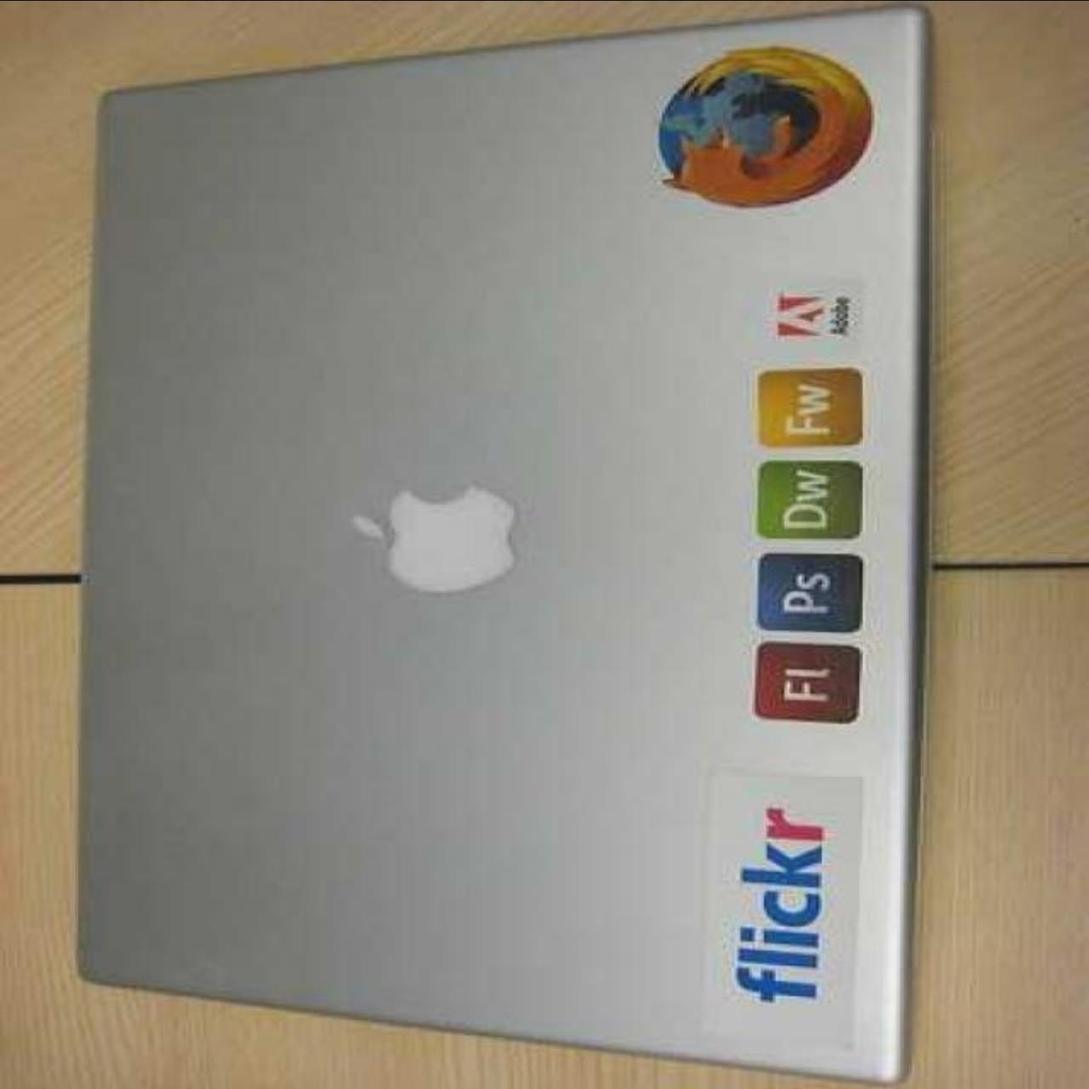laptop: (77, 71, 974, 991)
